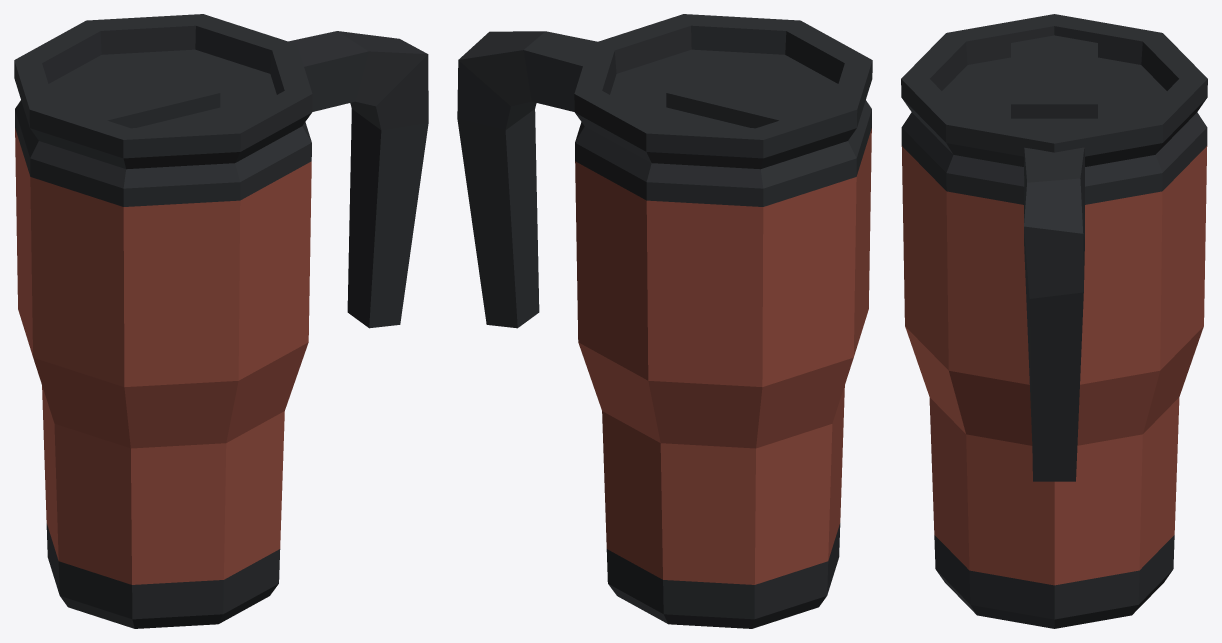
The model's file is SM_Item_Flask_Mug_01.fbx.
3 renders of one model, left to right at view 1: azimuth 30°, elevation 25°; view 2: azimuth 150°, elevation 25°; view 3: azimuth 270°, elevation 25°, orthographic.
Visible parts, largest first — view 1: SM_Item_Flask_Mug_01; view 2: SM_Item_Flask_Mug_01; view 3: SM_Item_Flask_Mug_01.
Boxes of the visible parts, bbox=[...] form: SM_Item_Flask_Mug_01: bbox=[14, 14, 428, 628]; SM_Item_Flask_Mug_01: bbox=[457, 14, 872, 628]; SM_Item_Flask_Mug_01: bbox=[901, 14, 1207, 628].
Size of the model in its own units: 21.84 by 27.38 by 15.11.
